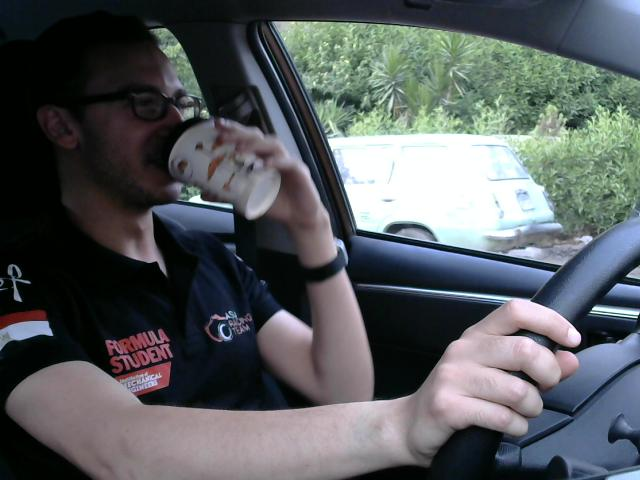Drinking: (164, 114, 290, 229)
